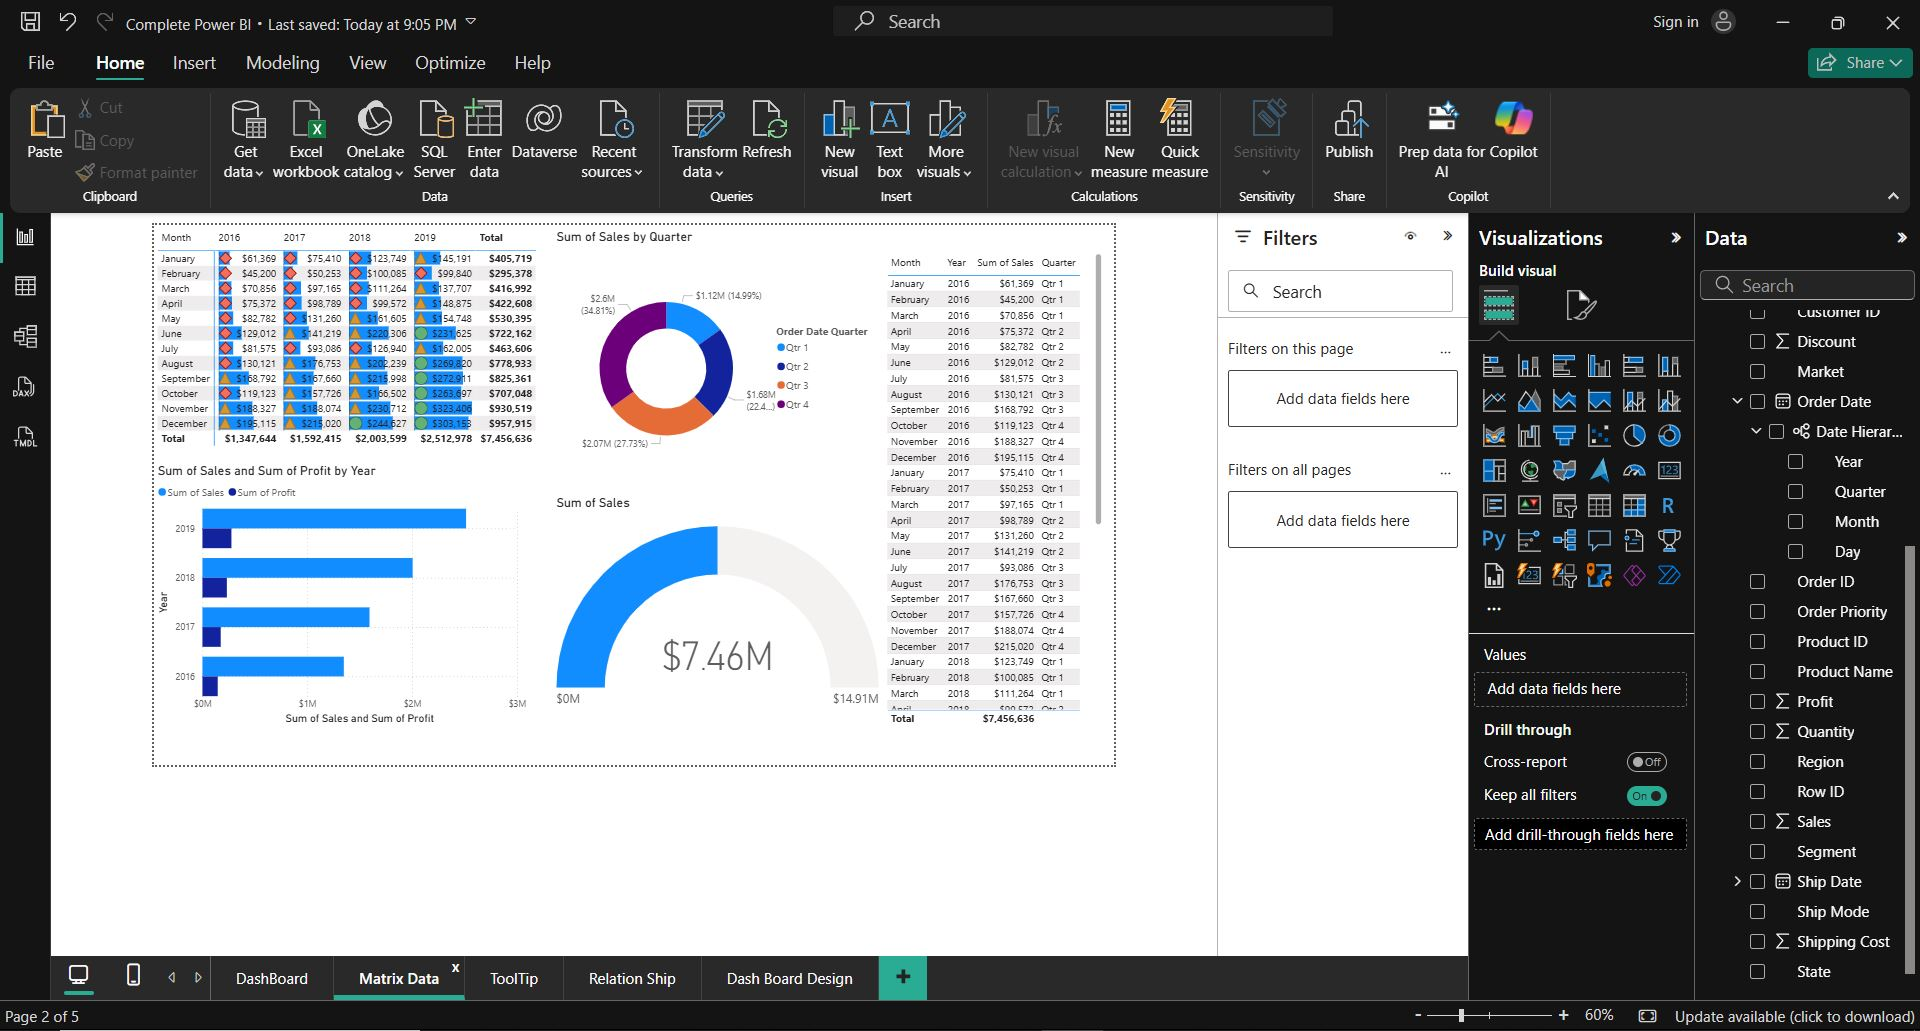

The page's visual inventory and layout, read from the dashboard file:
{"tool":"powerbi","page":{"name":"Matrix Data","canvas":[1280,720],"ordinal":1},"visuals":[{"type":"pivotTable","fields":{"Rows":["Orders.Order Date.Variation.Date Hierarchy.Month"],"Columns":["Orders.Order Date.Variation.Date Hierarchy.Year"],"Values":["Sum(Orders.Sales)"]},"box":[0,0,515.7,317.1],"z":0},{"type":"tableEx","fields":{"Values":["Orders.Order Date.Variation.Date Hierarchy.Month","Orders.Order Date.Variation.Date Hierarchy.Year","Sum(Orders.Sales)","Orders.Order Date.Variation.Date Hierarchy.Quarter"]},"box":[971.4,32.9,297.1,638.6],"z":1000},{"type":"clusteredBarChart","fields":{"Category":["Orders.Order Date.Variation.Date Hierarchy.Year"],"Y":["Sum(Orders.Sales)","Sum(Orders.Profit)"]},"box":[0,317.1,501.4,354.3],"z":2000},{"type":"donutChart","fields":{"Category":["Orders.Order Date.Variation.Date Hierarchy.Quarter"],"Y":["Sum(Orders.Sales)"]},"box":[531.4,5.7,440,354.3],"z":3000},{"type":"gauge","fields":{"Y":["Sum(Orders.Sales)"]},"box":[531,360,440,311],"z":4000}]}

Visuals, with their boxes on the page's 1280x720 design canvas (x1, y1, x2, y2). These are canvas units, not pixel positions in the 1920x1031 screenshot, which may show the page scaled, cropped or inside an application window:
pivotTable - Orders.Order Date.Variation.Date Hierarchy.Month x Orders.Order Date.Variation.Date Hierarchy.Year: [0, 0, 516, 317]
tableEx - Orders.Order Date.Variation.Date Hierarchy.Month x Orders.Order Date.Variation.Date Hierarchy.Year: [971, 33, 1268, 672]
clusteredBarChart - Orders.Order Date.Variation.Date Hierarchy.Year x Sum(Orders.Sales): [0, 317, 501, 671]
donutChart - Orders.Order Date.Variation.Date Hierarchy.Quarter x Sum(Orders.Sales): [531, 6, 971, 360]
gauge - Sum(Orders.Sales): [531, 360, 971, 671]
